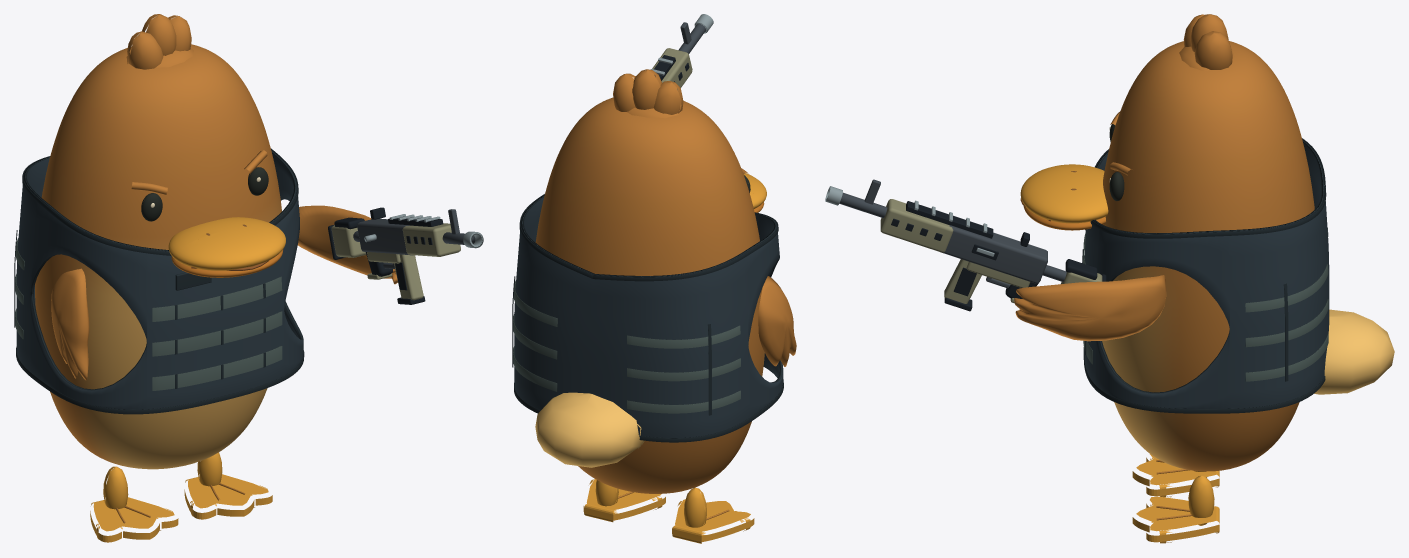
File: species-grips-duck-aim_up-preview.glb
The picture shows the model from 3 angles, left to right: view 1: azimuth 30°, elevation 25°; view 2: azimuth 150°, elevation 25°; view 3: azimuth 270°, elevation 25°; orthographic projection. The views are drawn at different scales.
Visible parts, largest first — view 1: duck_torso_mesh, duck_vest_refined_mesh, duck_beak_mesh, prop_m4_m4 painted furniture, duck_leftArm_mesh, duck_leftFoot_mesh, duck_rightFoot_mesh, duck_crestShort_mesh, duck_rightArm_mesh, prop_m4_Cerakote graphite, prop_m4_Recesses and rubber, prop_m4_Machined edges; view 2: duck_vest_refined_mesh, duck_torso_mesh, duck_tail_mesh, duck_crestShort_mesh, duck_leftFoot_mesh, duck_leftArm_mesh, duck_rightFoot_mesh, prop_m4_m4 painted furniture, prop_m4_Cerakote graphite, duck_beak_mesh; view 3: duck_torso_mesh, duck_vest_refined_mesh, duck_rightArm_mesh, duck_beak_mesh, duck_tail_mesh, prop_m4_Cerakote graphite, prop_m4_m4 painted furniture, duck_rightFoot_mesh, prop_m4_Recesses and rubber, duck_crestShort_mesh, duck_leftFoot_mesh.
Boxes of the visible parts, <box> form: duck_torso_mesh: <box>35,44,281,469</box>; duck_vest_refined_mesh: <box>14,148,304,414</box>; duck_beak_mesh: <box>168,217,285,277</box>; prop_m4_m4 painted furniture: <box>331,223,460,300</box>; duck_leftArm_mesh: <box>51,268,89,380</box>; duck_leftFoot_mesh: <box>90,466,178,542</box>; duck_rightFoot_mesh: <box>184,452,272,519</box>; duck_crestShort_mesh: <box>126,14,193,69</box>; duck_rightArm_mesh: <box>298,205,397,284</box>; prop_m4_Cerakote graphite: <box>353,209,475,269</box>; prop_m4_Recesses and rubber: <box>328,207,443,304</box>; prop_m4_Machined edges: <box>364,214,483,248</box>; duck_vest_refined_mesh: <box>512,194,783,442</box>; duck_torso_mesh: <box>535,97,764,493</box>; duck_tail_mesh: <box>535,392,644,467</box>; duck_crestShort_mesh: <box>613,69,683,118</box>; duck_leftFoot_mesh: <box>672,487,754,543</box>; duck_leftArm_mesh: <box>758,276,796,366</box>; duck_rightFoot_mesh: <box>583,479,665,522</box>; prop_m4_m4 painted furniture: <box>652,48,692,90</box>; prop_m4_Cerakote graphite: <box>678,22,705,53</box>; duck_beak_mesh: <box>744,173,766,212</box>; duck_torso_mesh: <box>1102,41,1314,471</box>; duck_vest_refined_mesh: <box>1082,138,1329,413</box>; duck_rightArm_mesh: <box>1014,275,1166,341</box>; duck_beak_mesh: <box>1020,164,1108,230</box>; duck_tail_mesh: <box>1314,309,1394,394</box>; prop_m4_Cerakote graphite: <box>839,179,1066,288</box>; prop_m4_m4 painted furniture: <box>880,199,1102,303</box>; duck_rightFoot_mesh: <box>1132,475,1219,543</box>; prop_m4_Recesses and rubber: <box>891,201,1106,311</box>; duck_crestShort_mesh: <box>1179,14,1234,70</box>; duck_leftFoot_mesh: <box>1132,454,1219,497</box>.
Size of the model in its own units: 1.21 by 1.98 by 2.09.
